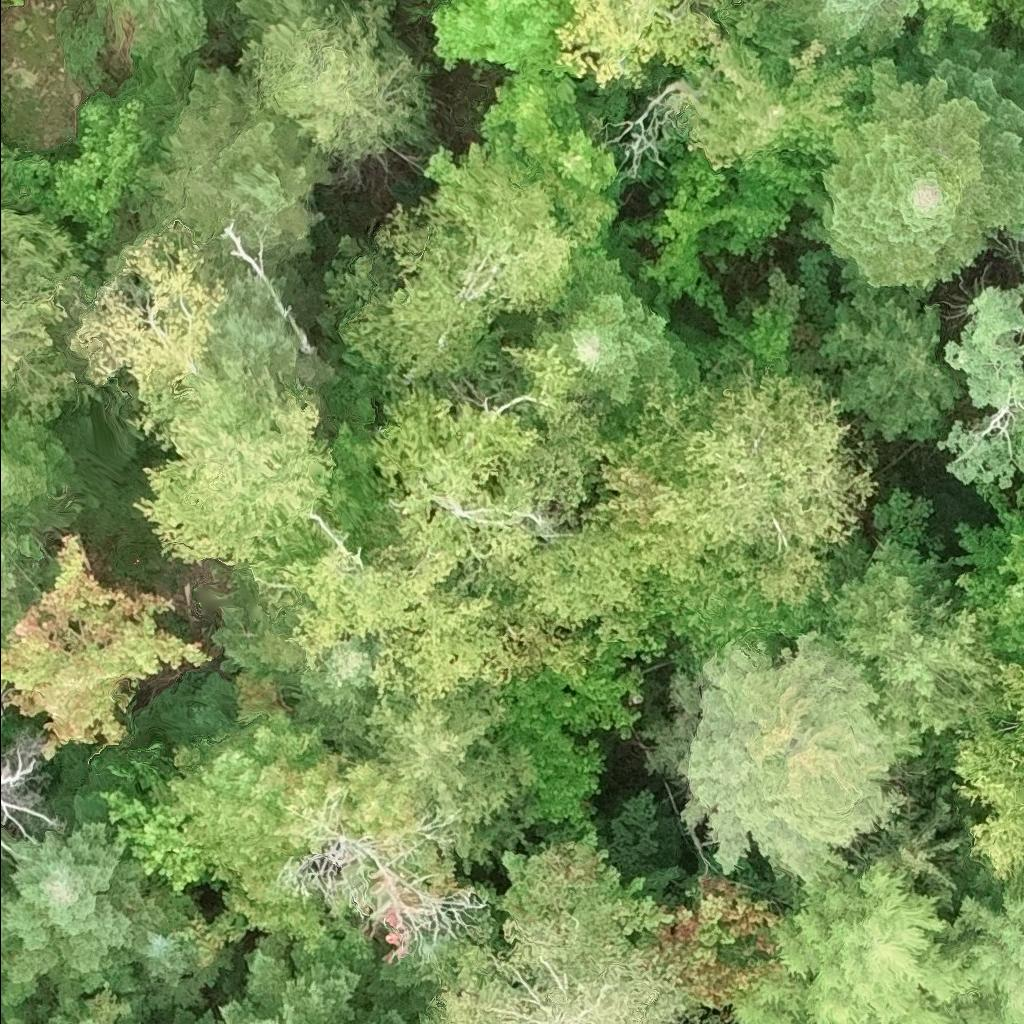crown: (611, 366, 873, 611), (161, 710, 418, 936), (346, 141, 578, 387), (688, 628, 908, 882), (0, 535, 216, 764), (823, 51, 1023, 294), (419, 853, 696, 1023), (295, 544, 557, 702), (732, 860, 969, 1023), (129, 376, 328, 562), (682, 0, 896, 169), (502, 462, 707, 633), (151, 70, 337, 258), (471, 634, 645, 829), (375, 397, 570, 571), (828, 566, 999, 757), (244, 0, 425, 167), (0, 824, 152, 1009), (373, 687, 532, 862), (69, 230, 222, 403), (593, 560, 831, 667), (483, 69, 616, 255), (535, 255, 682, 412), (824, 290, 963, 441), (645, 868, 779, 1010), (170, 950, 408, 1023), (0, 214, 89, 409), (40, 98, 152, 252), (942, 282, 1023, 492), (513, 343, 608, 522), (951, 666, 1023, 875), (102, 757, 205, 898), (557, 0, 716, 89), (433, 0, 579, 88), (0, 402, 90, 539), (953, 494, 1023, 667), (707, 275, 800, 395), (952, 881, 1023, 1023), (127, 898, 200, 986), (0, 738, 53, 854), (785, 0, 905, 49), (901, 0, 1023, 48), (0, 511, 44, 642), (53, 1007, 134, 1023), (0, 102, 6, 125), (16, 1023, 25, 1023)
